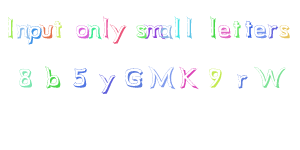5: (68, 63, 90, 92)
8: (13, 66, 36, 91)
9: (208, 62, 226, 90)
G: (125, 64, 144, 90)
I: (4, 11, 19, 42)
K: (177, 63, 204, 91)
M: (147, 64, 175, 92)
W: (251, 64, 286, 89)
a: (159, 24, 174, 41)
b: (43, 64, 65, 93)
e: (219, 22, 232, 41), (253, 22, 266, 41)
l: (207, 13, 221, 41), (184, 14, 197, 43), (172, 14, 184, 43), (101, 17, 110, 40)
m: (146, 22, 162, 43)
n: (89, 22, 101, 41), (17, 24, 28, 43)
o: (73, 21, 89, 43)
p: (28, 22, 43, 47)
r: (233, 68, 250, 92), (267, 22, 279, 41)
s: (133, 22, 147, 41), (279, 22, 292, 40)
t: (54, 17, 68, 43), (243, 18, 254, 40), (232, 18, 242, 40)
u: (40, 20, 53, 45)
y: (109, 18, 128, 48), (98, 71, 116, 92)
